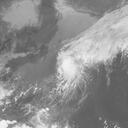cyclone: (53, 46, 89, 99)
